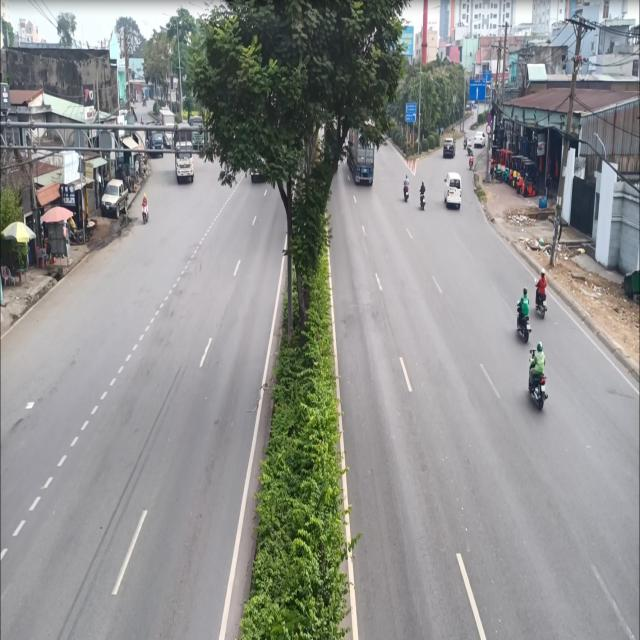car: (443, 172, 462, 215)
motor: (523, 346, 550, 416), (512, 284, 532, 342), (532, 265, 550, 321)
